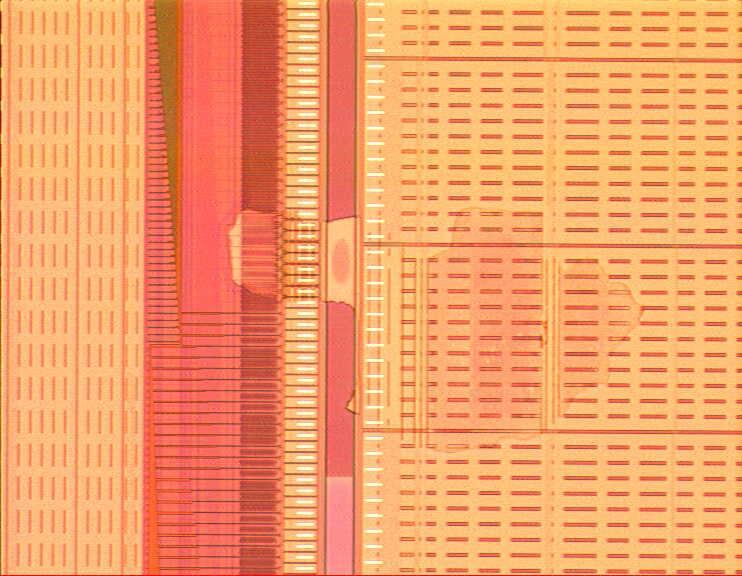BLOCK ETCH: (220, 196, 656, 458)
